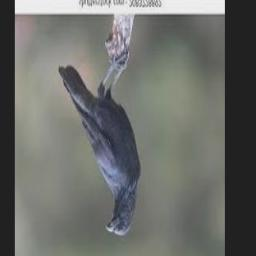Crow: (57, 61, 141, 237)
